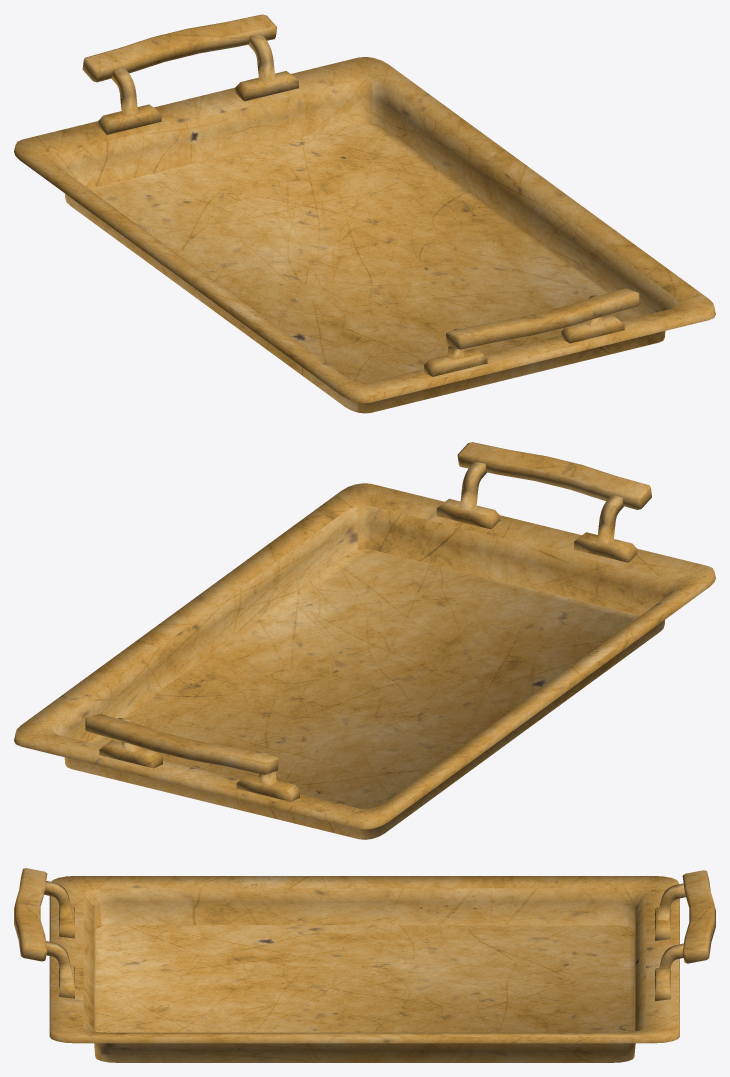
Rendered from tray-5x5.glb.
The picture shows the model from 3 angles, top to bottom: view 1: azimuth 30°, elevation 25°; view 2: azimuth 150°, elevation 25°; view 3: azimuth 270°, elevation 25°; orthographic projection. The views are drawn at different scales.
Visible parts, largest first — view 1: bandeja.001; view 2: bandeja.001; view 3: bandeja.001.
Part boxes in pixels (x1=…): bandeja.001: x1=14, y1=14, x2=715, y2=413; bandeja.001: x1=14, y1=442, x2=715, y2=839; bandeja.001: x1=14, y1=868, x2=715, y2=1062.
Bounding box in the file's own units: 7.77 × 1.9 × 14.24.
Materials: 1 (1 with a texture image).
